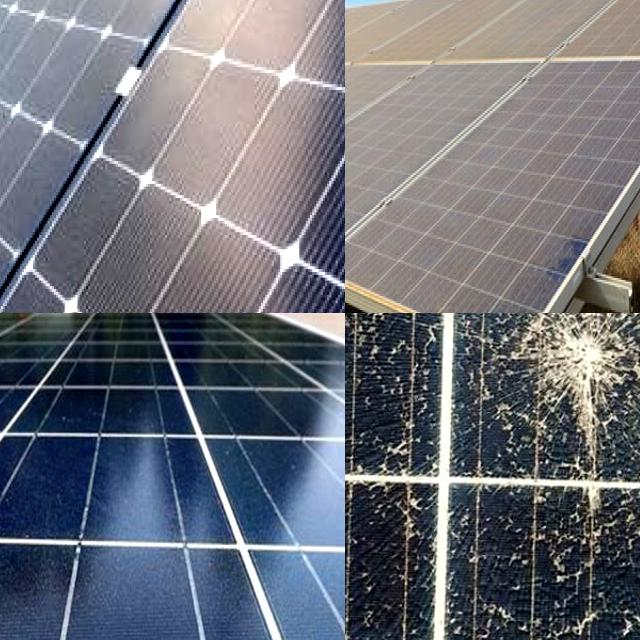crack: (0, 313, 345, 640), (0, 0, 345, 313)
dust: (407, 174, 543, 308), (538, 62, 640, 159), (362, 5, 532, 58), (345, 77, 386, 265), (345, 77, 406, 194), (535, 0, 640, 40)
hotspot: (491, 496, 640, 640), (474, 313, 640, 432)
